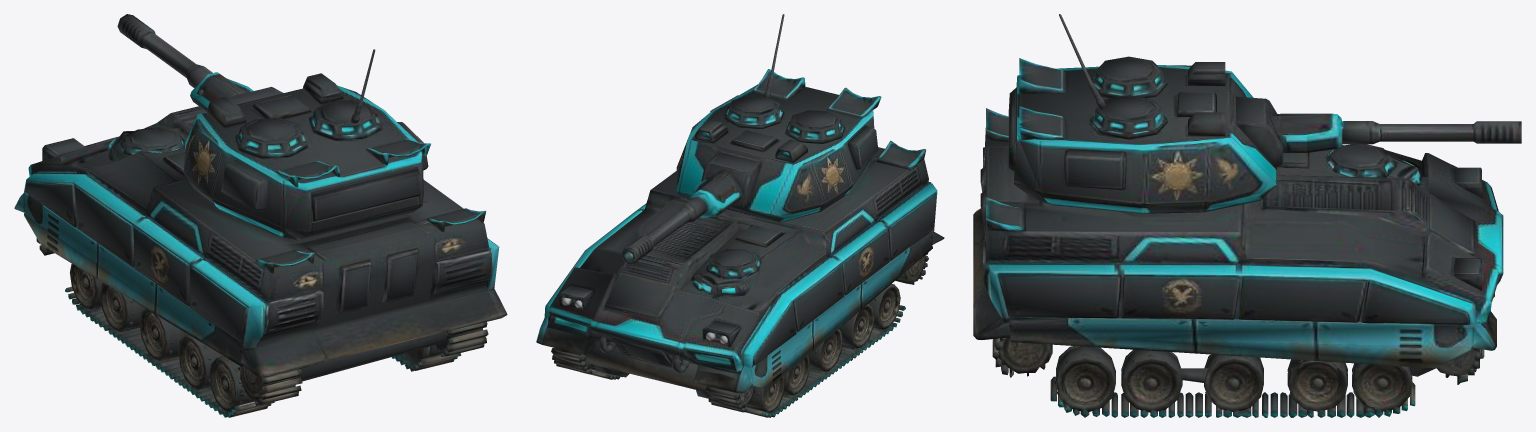
Rendered from charcoal_apc.glb.
3 renders of one model, left to right at view 1: azimuth 30°, elevation 25°; view 2: azimuth 150°, elevation 25°; view 3: azimuth 270°, elevation 25°, orthographic. The views are drawn at different scales.
Visible parts, largest first — view 1: Body, Turret, Trim, Barrel; view 2: Body, Turret, Trim, Barrel; view 3: Body, Turret, Trim, Barrel.
Boxes of the visible parts, bbox=[...] form: Body: bbox=[14, 49, 507, 417]; Turret: bbox=[183, 49, 428, 240]; Trim: bbox=[19, 137, 499, 417]; Barrel: bbox=[117, 14, 246, 96]; Body: bbox=[536, 14, 944, 417]; Turret: bbox=[676, 14, 879, 222]; Trim: bbox=[537, 69, 937, 417]; Barrel: bbox=[621, 173, 730, 264]; Body: bbox=[973, 14, 1503, 417]; Turret: bbox=[1015, 14, 1335, 212]; Trim: bbox=[986, 79, 1503, 417]; Barrel: bbox=[1273, 113, 1521, 152].
Bounding box in the file's own units: 3.99 × 5.08 × 7.
2 materials, 2 textured.
